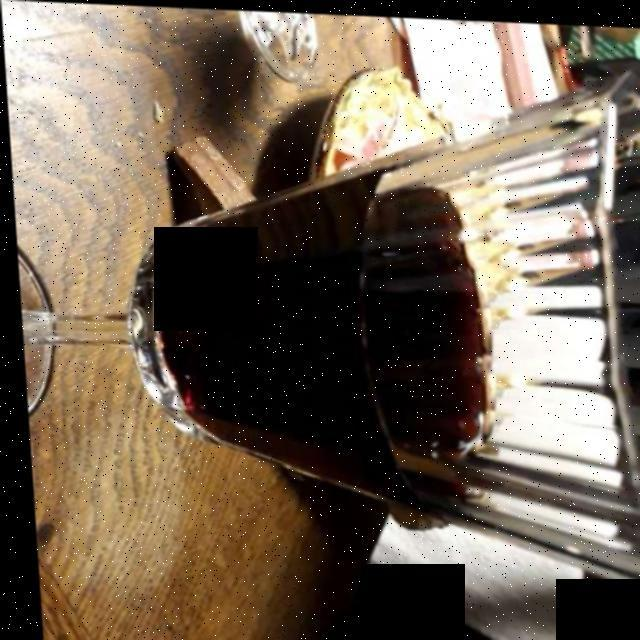wine: (156, 173, 487, 502)
